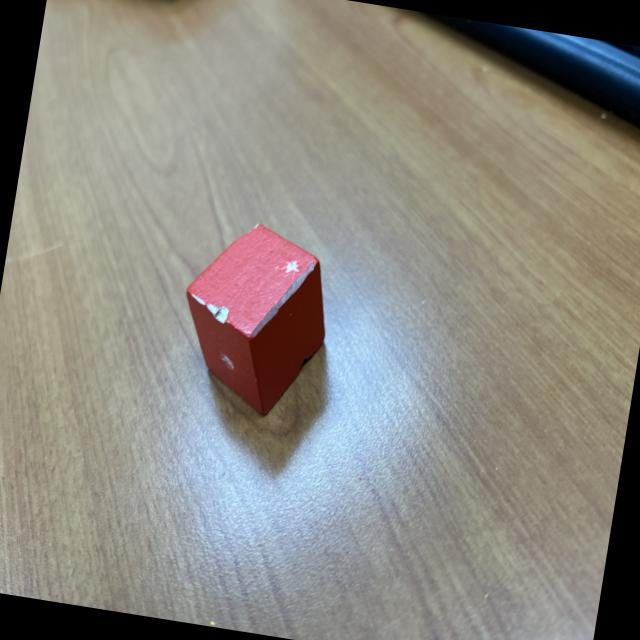broken: (168, 212, 342, 424)
